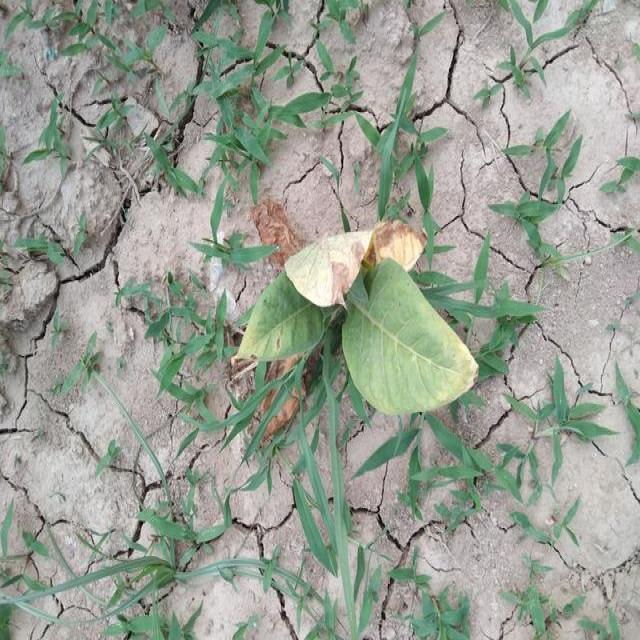crop: (246, 205, 476, 409)
